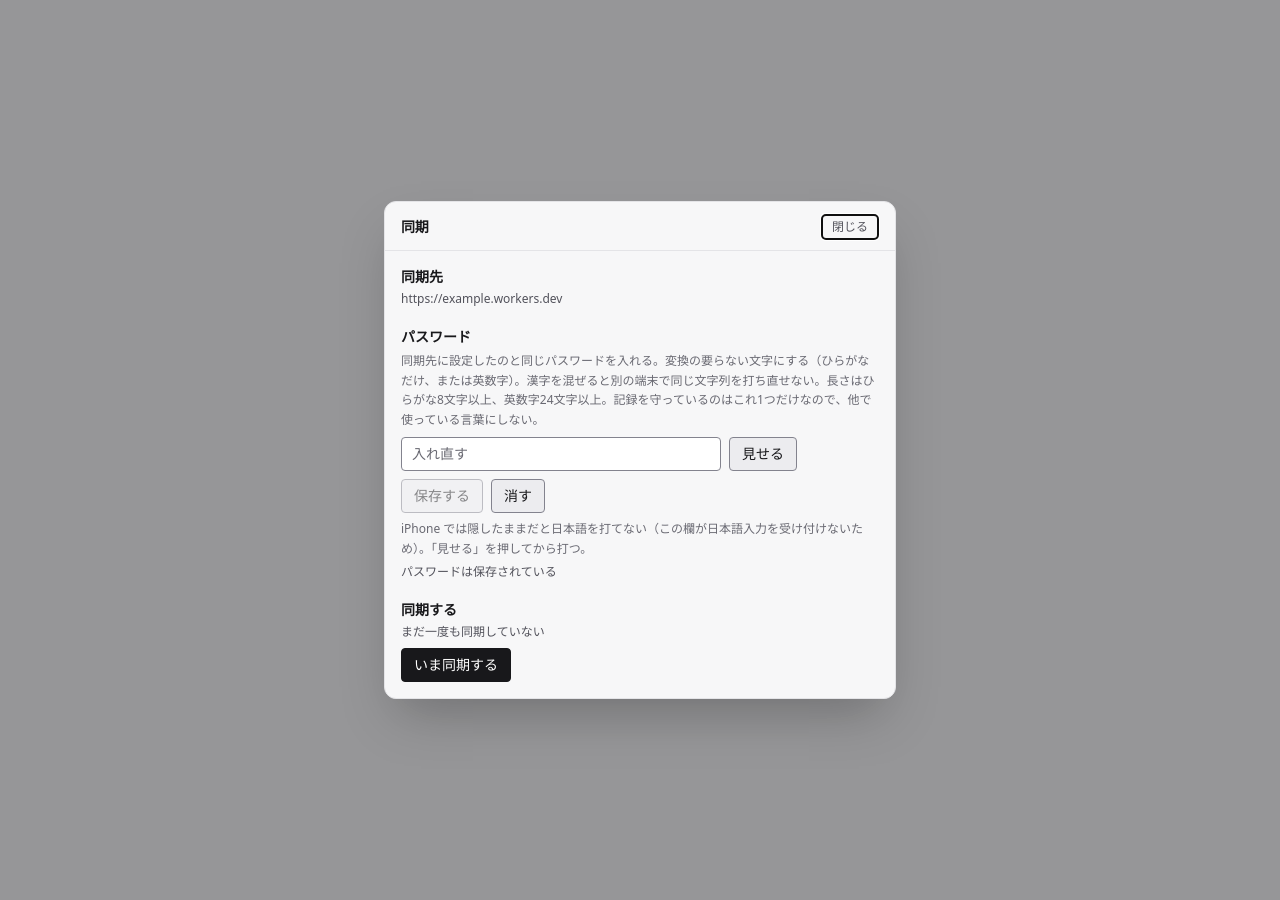
Test: 同期の結果 › 負けた側が削除だったときは、そう言う(「編集したのに消えた」と言い分ける)
The width and height of the screenshot is (1280, 900).
Click the button "いま同期する": (456, 665) [401,648,511,682]
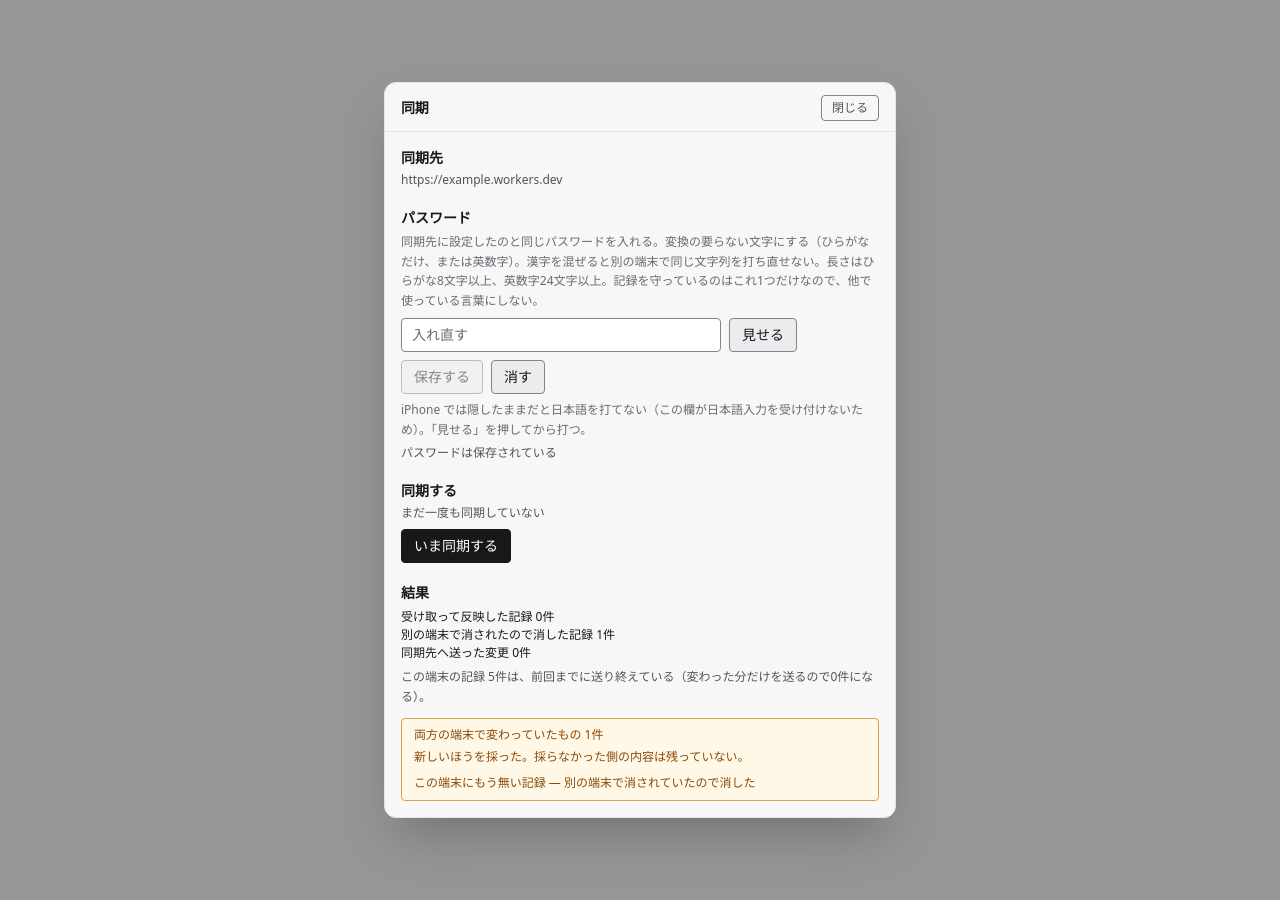
Result: the list item "この端末にもう無い記録 — 別の端末で消されていたので消した" is shown at [414,774,756,790]
